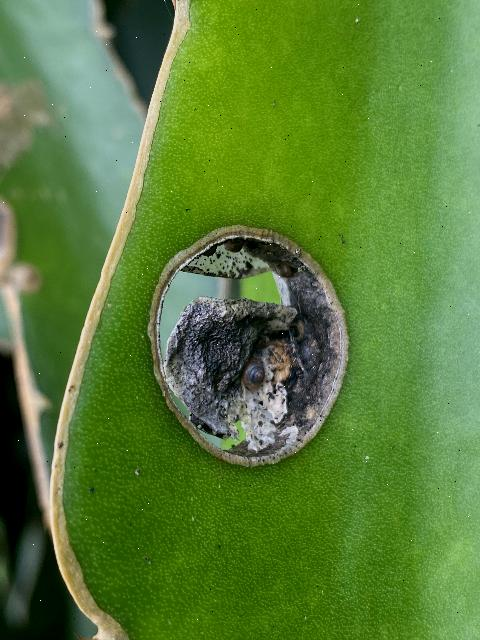stemcanker: (144, 214, 356, 477)
